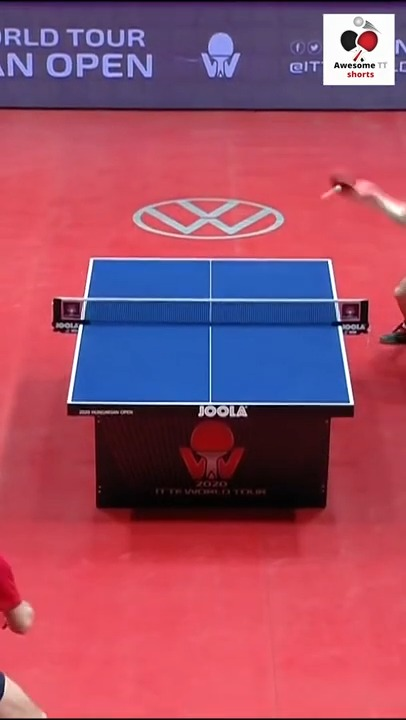Ball: (322, 180, 340, 198)
